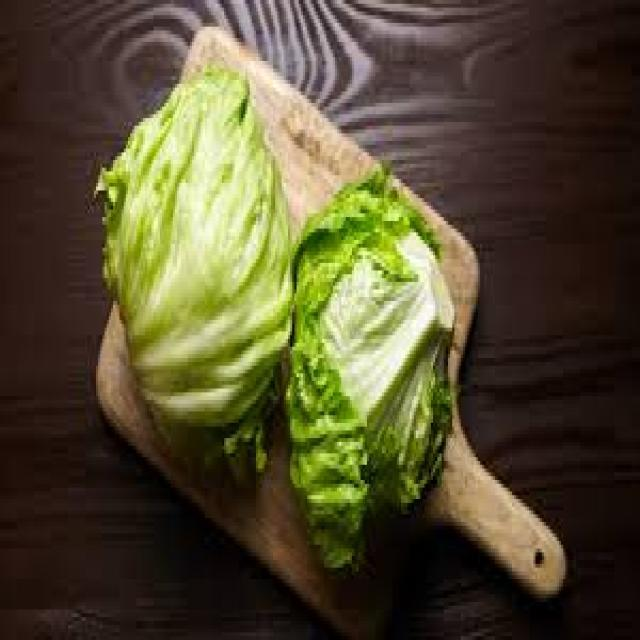Lettuce: (94, 68, 294, 424), (288, 167, 458, 569)
